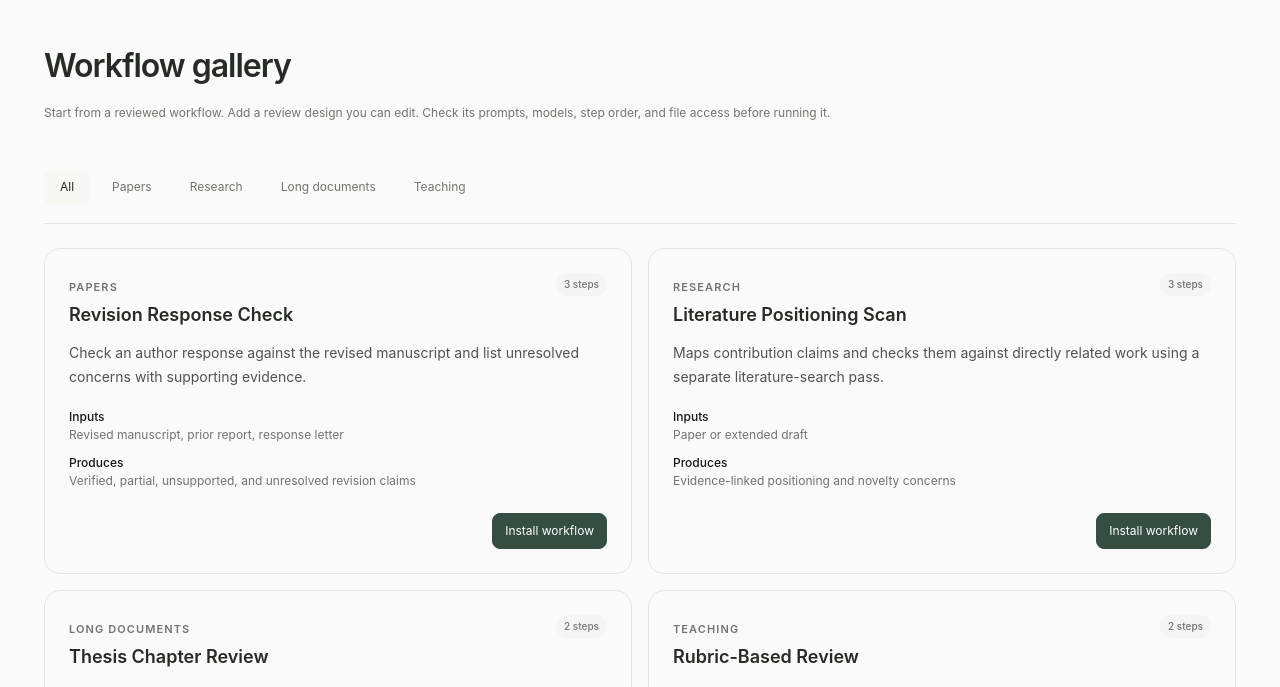
Test: WorkflowGalleryPage › installs a gallery item as an editable local profile and activates it
Click the button "Install workflow" below "Revision Response Check". click: (550, 531)
box: [492,513,607,549]
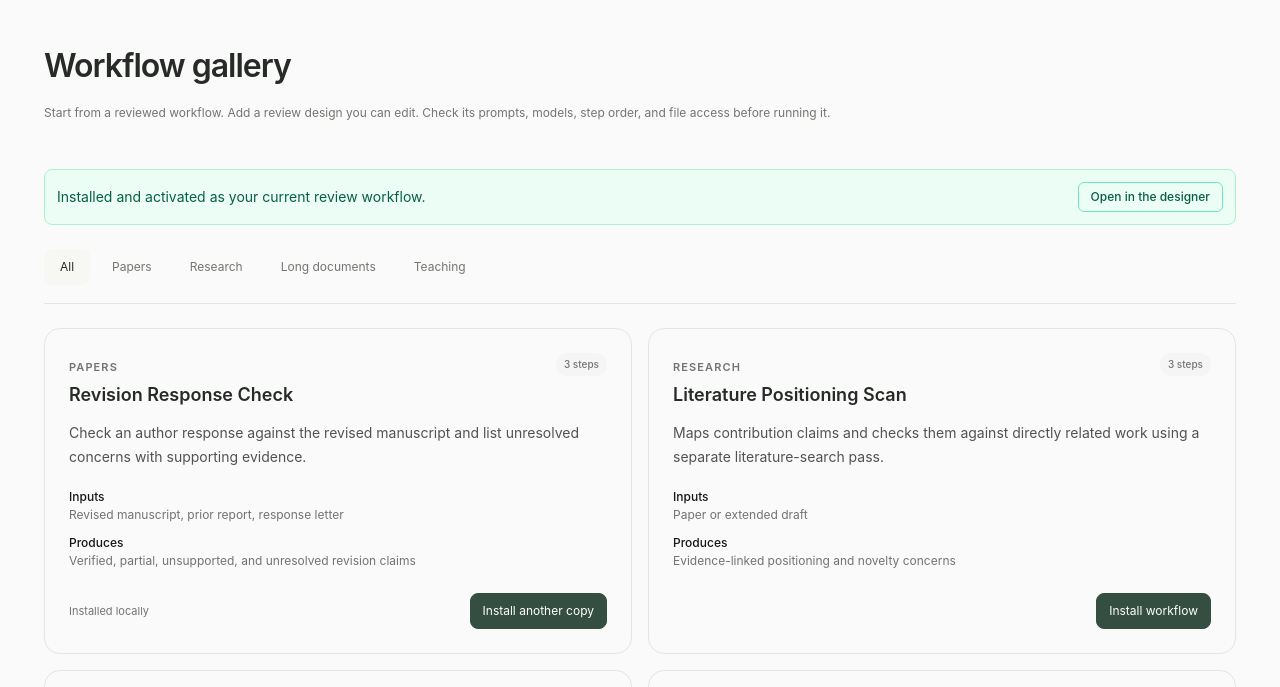
Now the text "Installed and activated as your current review workflow." is shown, box [57,188,426,205]
